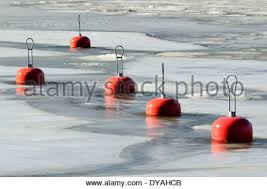buoy: (210, 116, 254, 142), (145, 98, 182, 118), (16, 68, 45, 85), (105, 77, 135, 93), (69, 37, 91, 49)
